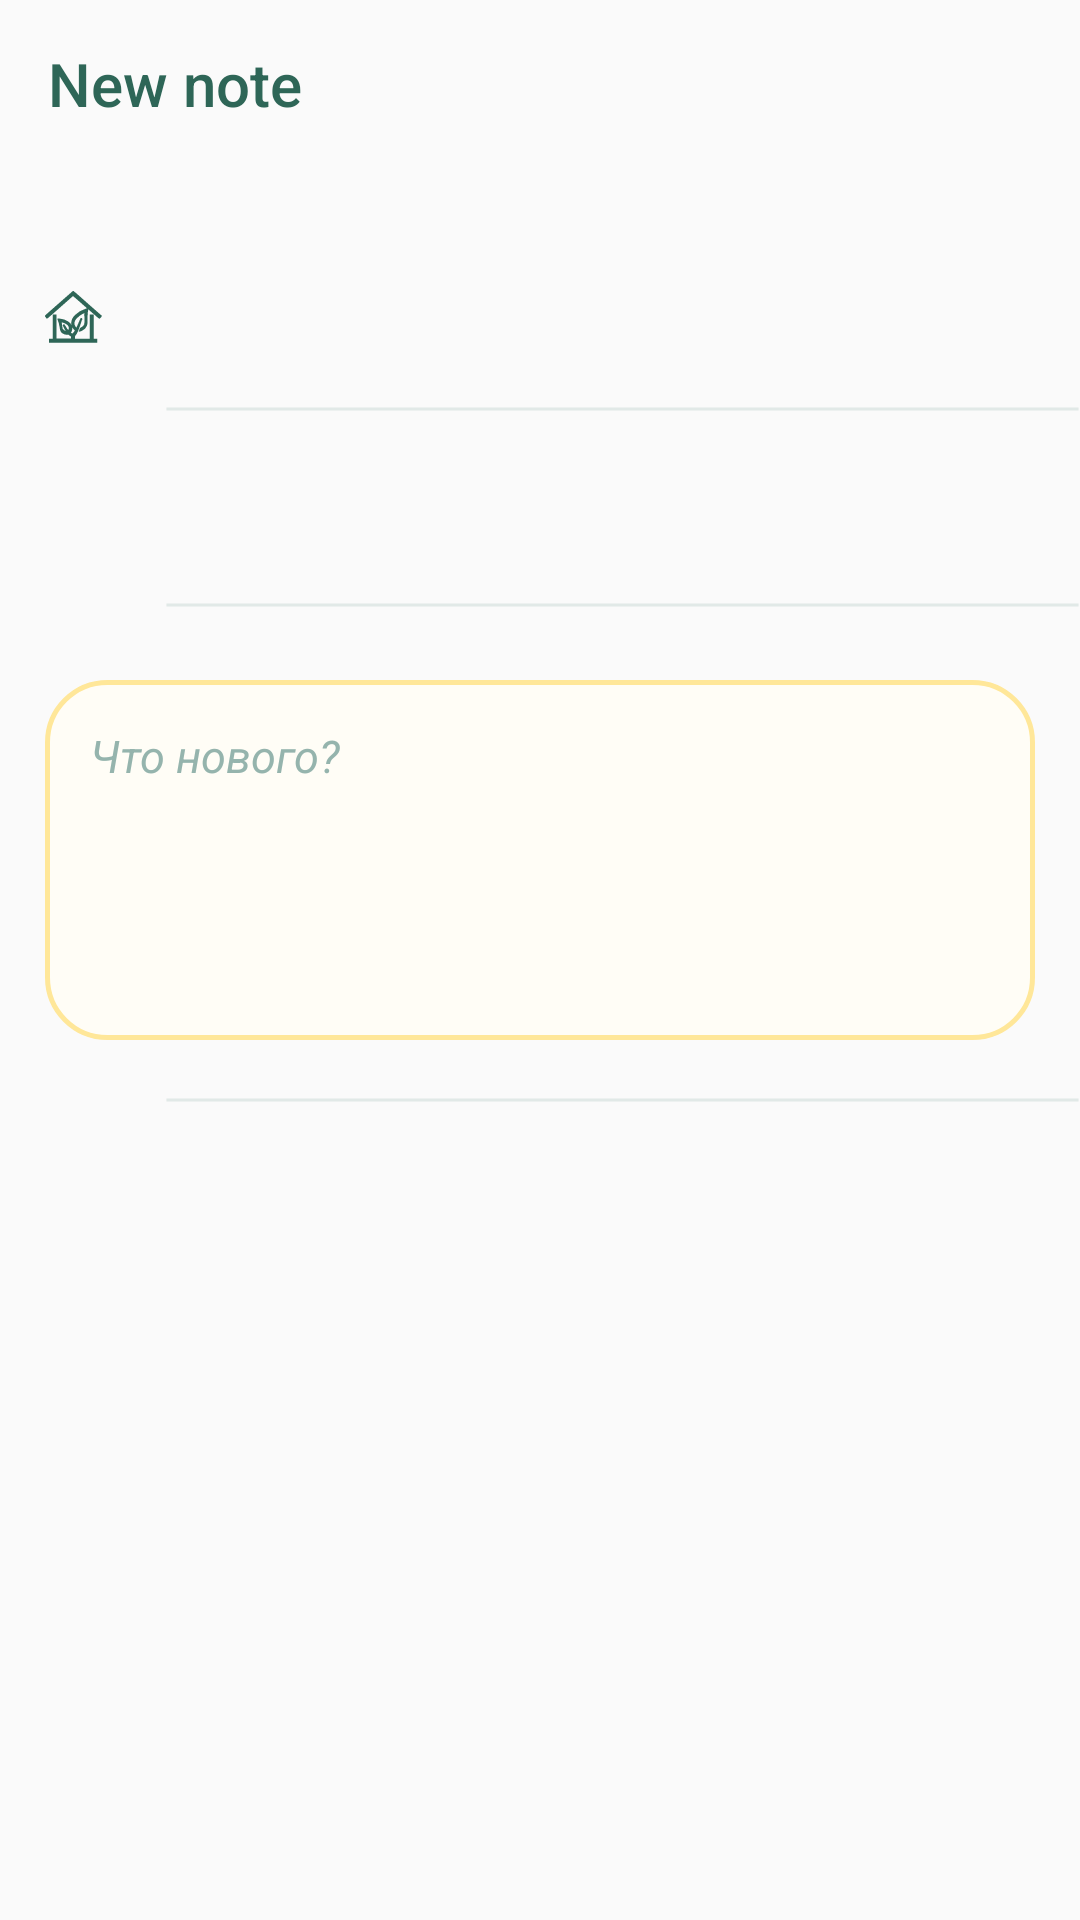

Icons on this 1080×1920 Android screen, each with its box as (x1, y1, x2, y2):
greenhouse: (45, 291, 102, 343)
